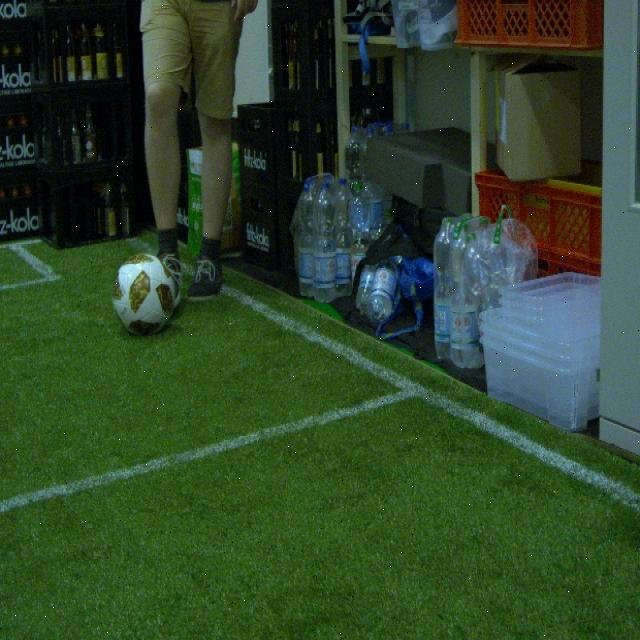ball: (110, 251, 176, 332)
